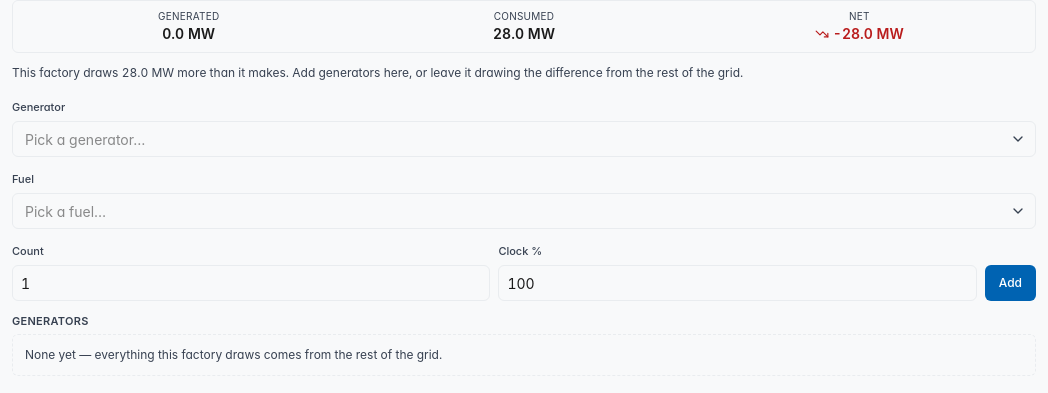
Test: <FactoryPowerPanel /> › offers only the generators this tier has unlocked
Click the dropdown labelled "Generator" at (524, 139), box [12, 121, 1036, 157]
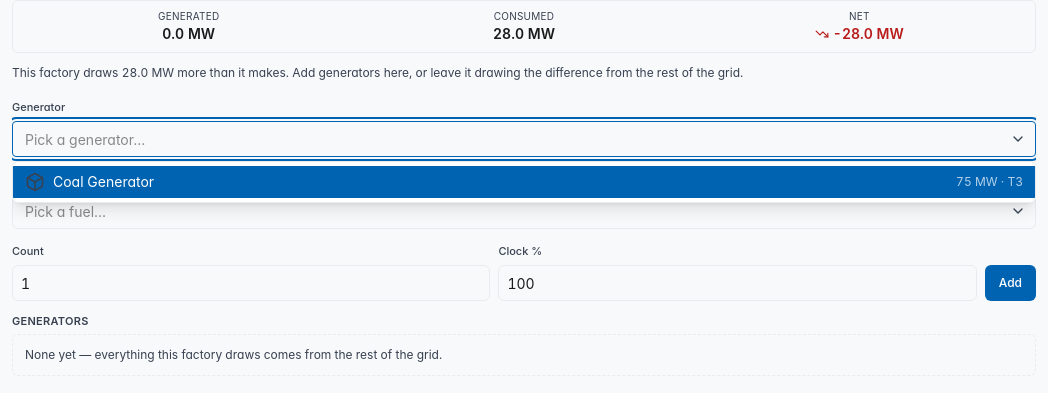
Result: the option "Coal Generator 75 MW · T3" is shown at [13, 166, 1035, 198]
